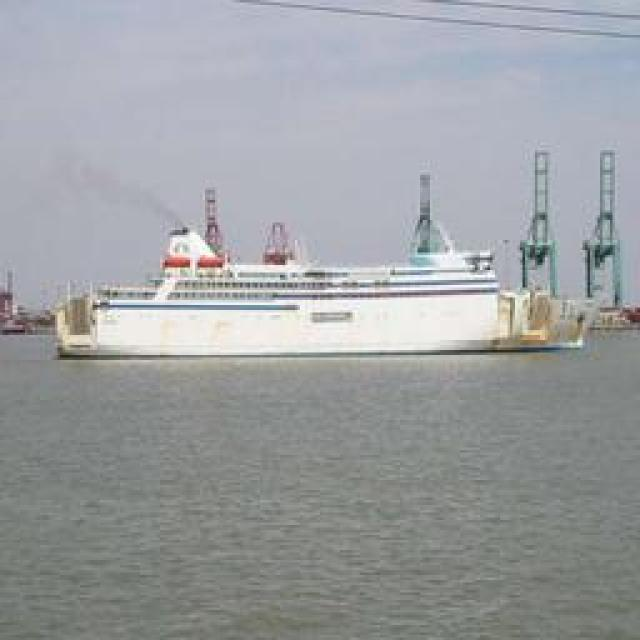ship2: (56, 177, 599, 361)
